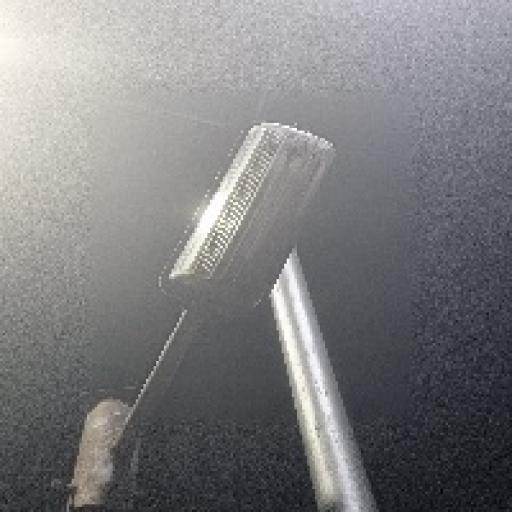Not Working: (137, 97, 353, 342)
